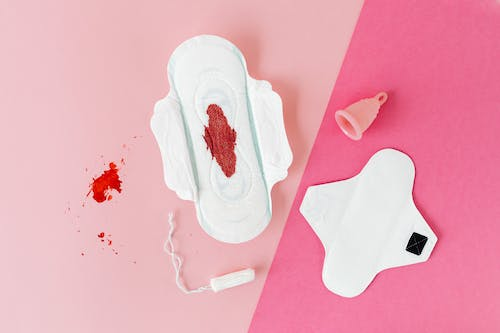blood: (62, 142, 127, 257), (200, 102, 239, 181)
